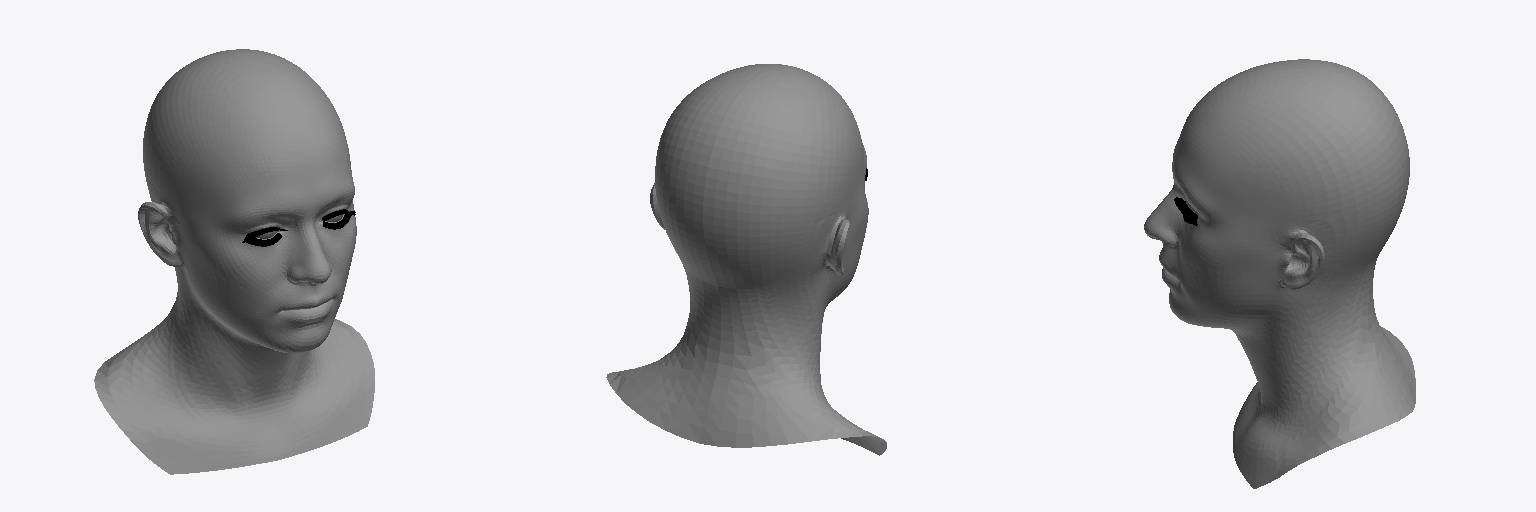
File: identity086.obj
The picture shows the model from 3 angles: view 1: azimuth 30°, elevation 25°; view 2: azimuth 150°, elevation 25°; view 3: azimuth 270°, elevation 25°; orthographic projection.
Size of the model in its own units: 24.83 by 33.79 by 22.27.